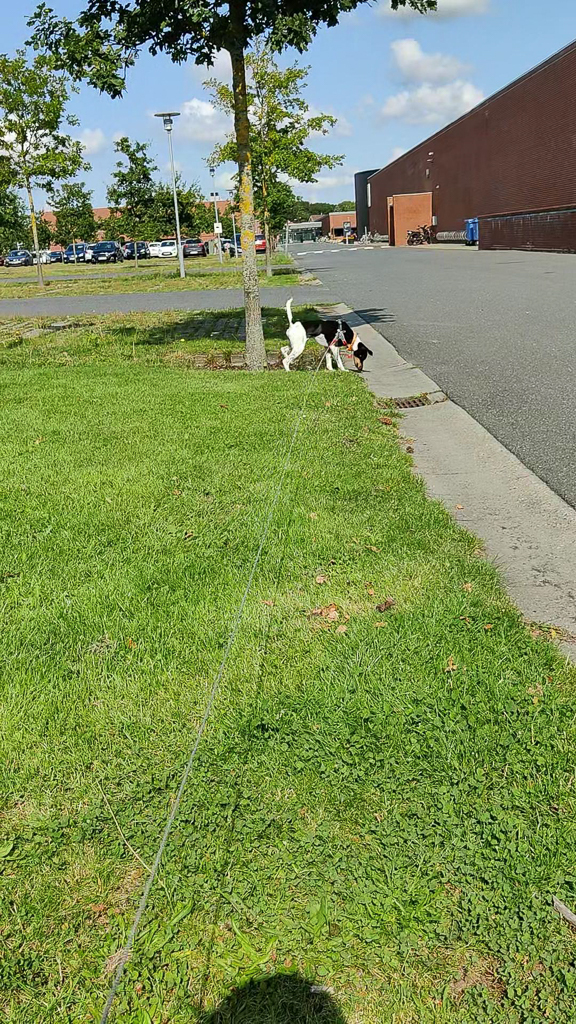Dog: (274, 291, 380, 379)
